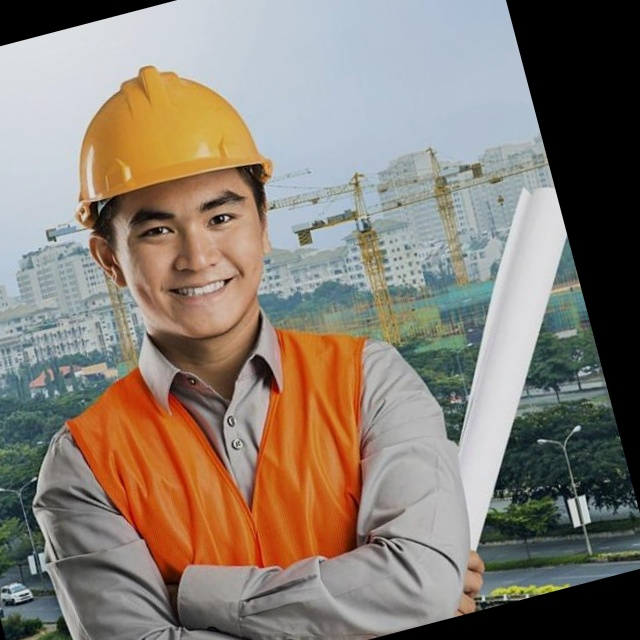Con_Casco: (46, 45, 311, 362)
Con_Chaleco: (40, 300, 474, 640)
